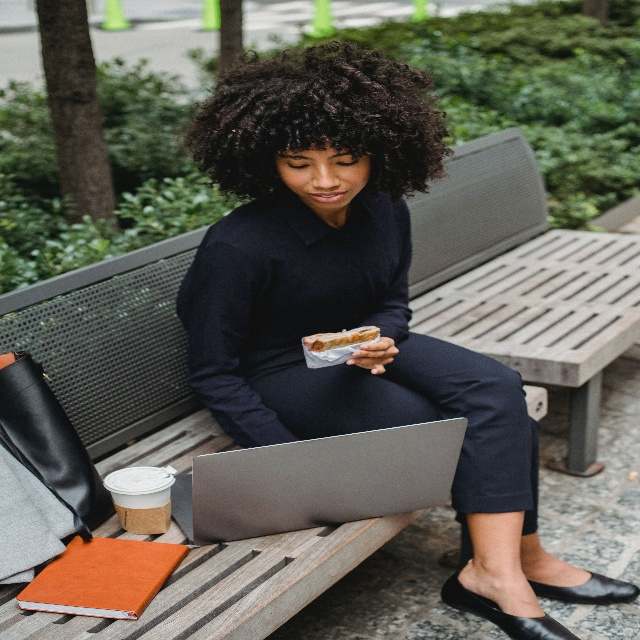Sin_guantes: (346, 335, 399, 375)
